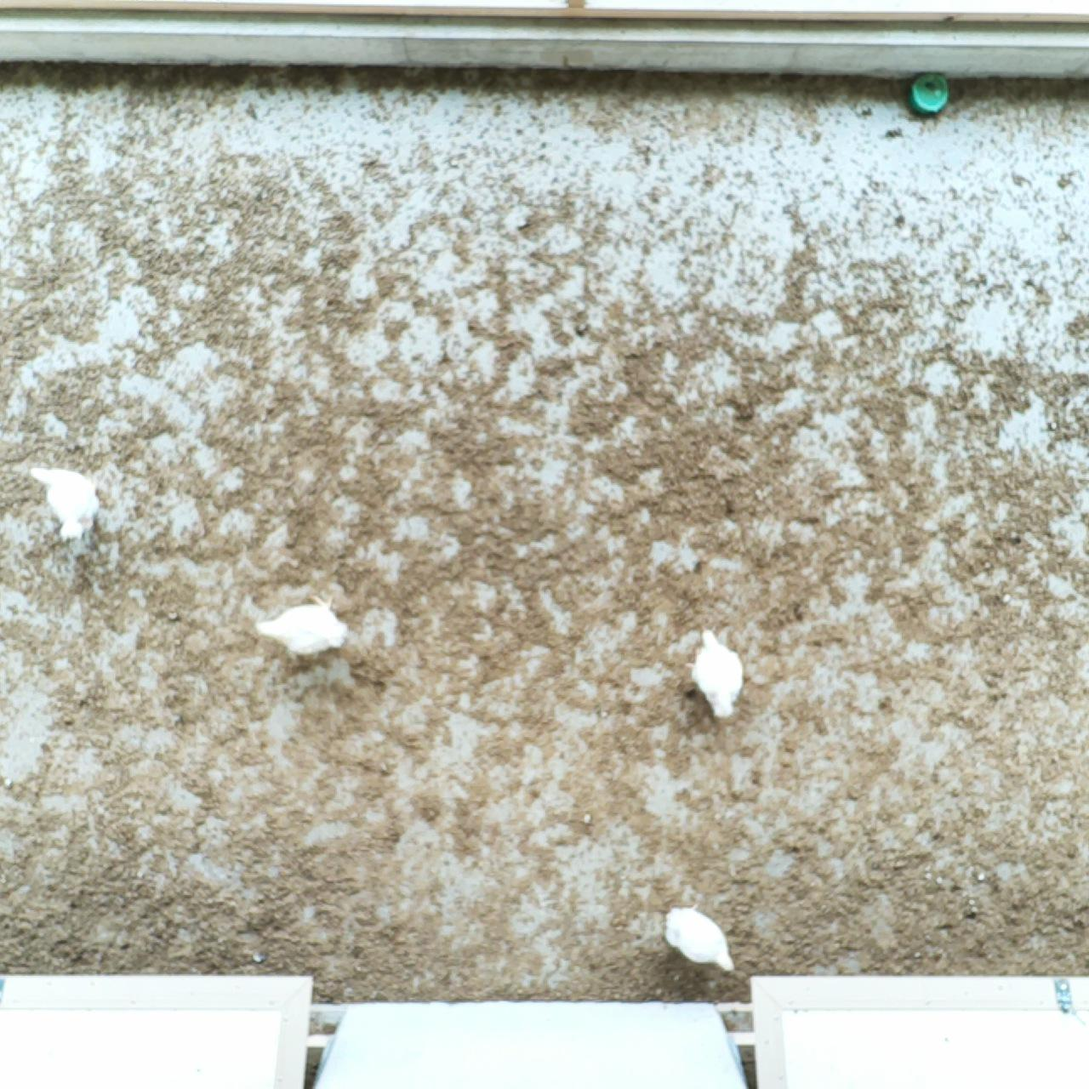chicken: (244, 586, 355, 657), (676, 623, 751, 723), (661, 897, 743, 981)
